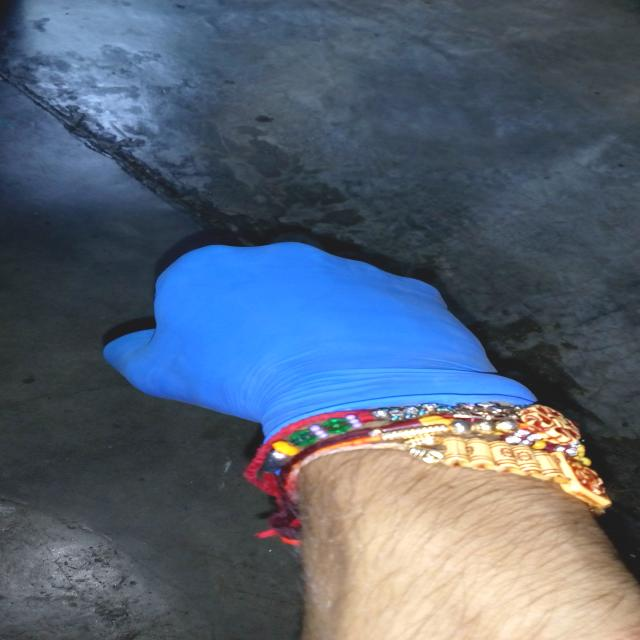glove: (88, 233, 555, 465)
